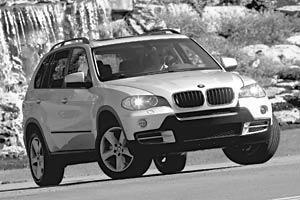car: (21, 29, 280, 189)
